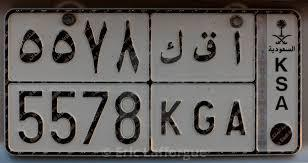5: (17, 27, 44, 144), (50, 29, 76, 146)
7: (81, 19, 109, 145)
8: (114, 20, 143, 146)
A: (225, 29, 248, 136)
G: (193, 31, 217, 136)
K: (159, 28, 183, 136)
